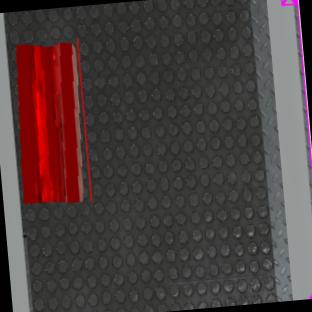objects: (13, 38, 86, 208)
